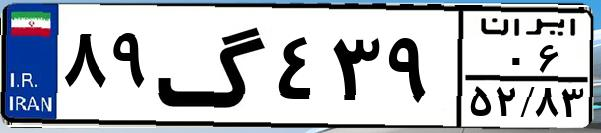0: (508, 27, 537, 80)
2: (495, 70, 520, 125)
3: (330, 28, 385, 110), (560, 70, 590, 125)
4: (270, 28, 330, 110)
5: (470, 70, 495, 125)
6: (537, 27, 568, 80)
8: (57, 26, 110, 100), (535, 70, 560, 125)
9: (385, 28, 445, 110), (110, 28, 156, 98)
گ: (156, 12, 270, 120)
